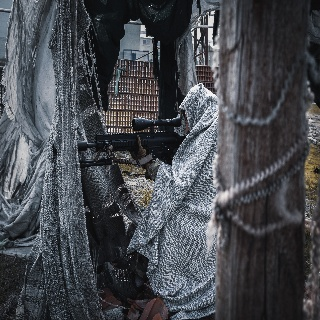rifle: (76, 113, 187, 168)
